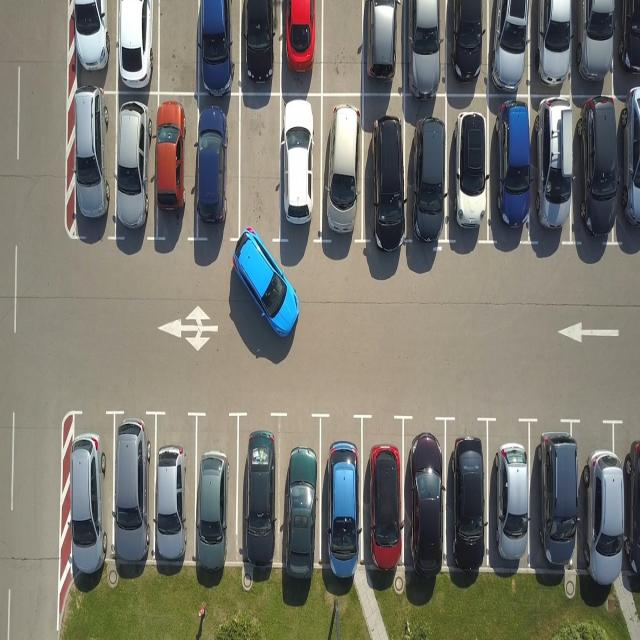space-empty: (237, 94, 282, 244), (320, 0, 366, 93), (155, 0, 198, 93)
space-occupied: (575, 436, 635, 590), (400, 414, 448, 577), (108, 408, 155, 573), (318, 413, 364, 578), (192, 410, 240, 567), (485, 417, 533, 574), (319, 94, 367, 249), (66, 89, 116, 236), (528, 100, 580, 241), (192, 93, 240, 245), (278, 92, 322, 246), (445, 102, 493, 243), (150, 92, 194, 244), (112, 93, 154, 242), (444, 412, 484, 568), (363, 106, 407, 245), (362, 412, 402, 564), (405, 109, 449, 242), (490, 94, 530, 238), (240, 408, 275, 565), (534, 421, 570, 566), (280, 415, 316, 558), (576, 97, 612, 239), (156, 410, 192, 547), (75, 413, 106, 562), (570, 0, 619, 93), (68, 0, 116, 92), (487, 0, 534, 93), (114, 0, 160, 92), (444, 1, 490, 92), (196, 0, 240, 93), (279, 0, 322, 93), (238, 0, 281, 93), (363, 0, 405, 93), (616, 101, 640, 242), (533, 0, 567, 98), (406, 0, 441, 95), (618, 0, 639, 90)
